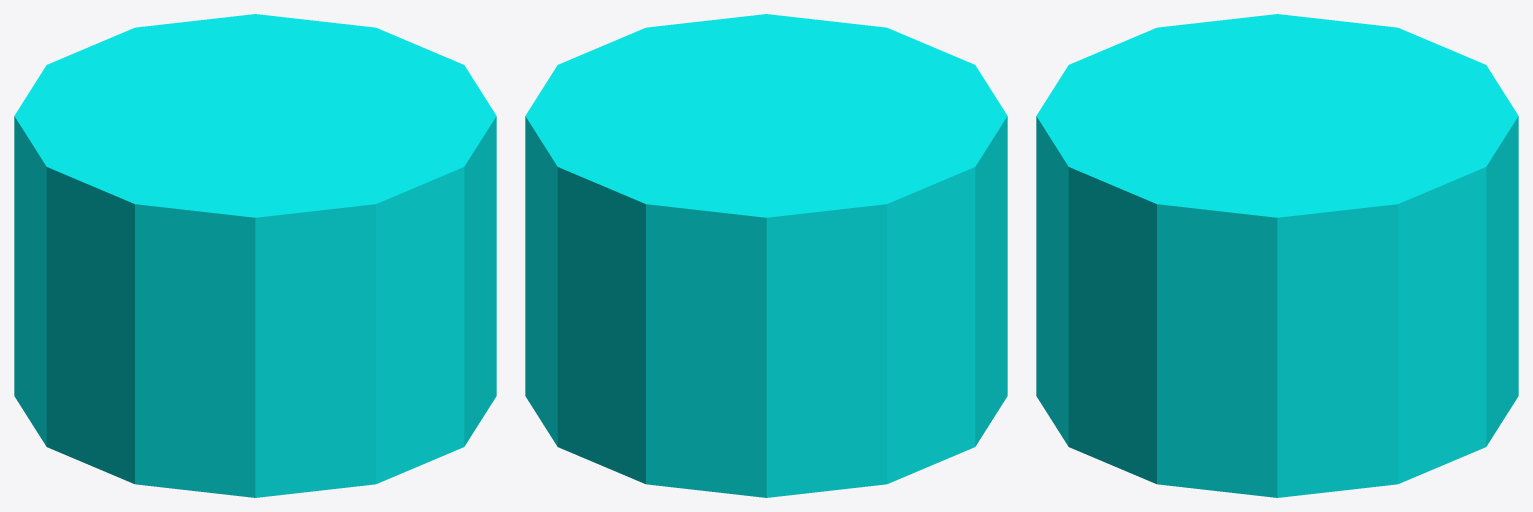
The model's file is anzeigerstab.obj.
The picture shows the model from 3 angles, left to right: view 1: azimuth 30°, elevation 25°; view 2: azimuth 150°, elevation 25°; view 3: azimuth 270°, elevation 25°; orthographic projection.
Parts seen in each view (by area): view 1: anzeigerstab; view 2: anzeigerstab; view 3: anzeigerstab.
Part boxes in pixels (left/top/right/bottom): anzeigerstab: left=14, top=14, right=496, bottom=497; anzeigerstab: left=525, top=14, right=1007, bottom=497; anzeigerstab: left=1036, top=14, right=1518, bottom=497.
Bounding box in the file's own units: 0.0546 × 0.035 × 0.0546.
